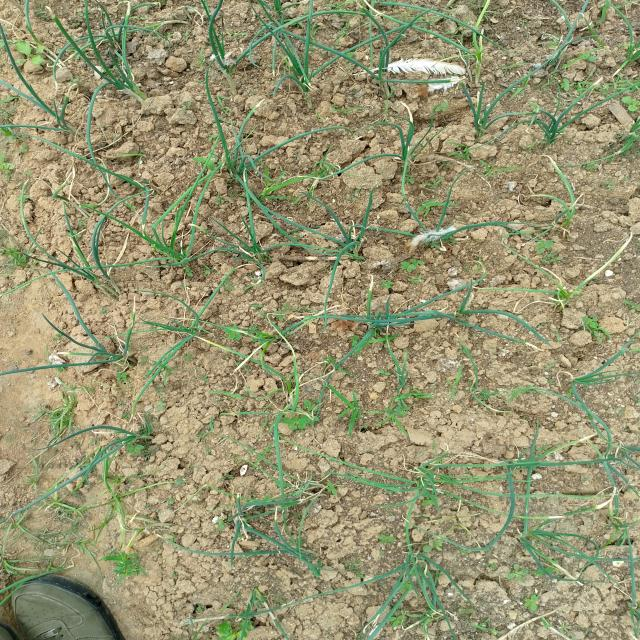Spring Onion: (235, 495, 315, 578), (522, 93, 590, 174), (214, 218, 284, 290), (199, 144, 276, 206), (79, 410, 170, 462), (134, 224, 213, 282), (364, 459, 459, 507), (562, 415, 630, 481), (393, 537, 454, 610), (70, 18, 162, 66), (59, 327, 140, 381), (342, 298, 422, 352), (387, 214, 473, 262), (502, 513, 572, 571), (248, 377, 316, 436), (56, 248, 126, 305), (87, 61, 159, 116), (356, 35, 408, 106), (316, 218, 378, 272), (366, 132, 446, 172), (484, 444, 557, 486), (200, 36, 248, 98), (270, 54, 334, 97), (23, 92, 79, 140), (452, 100, 500, 151), (546, 362, 592, 413), (148, 310, 211, 346), (534, 275, 591, 312), (540, 38, 587, 80), (571, 311, 612, 343), (457, 50, 486, 86)
